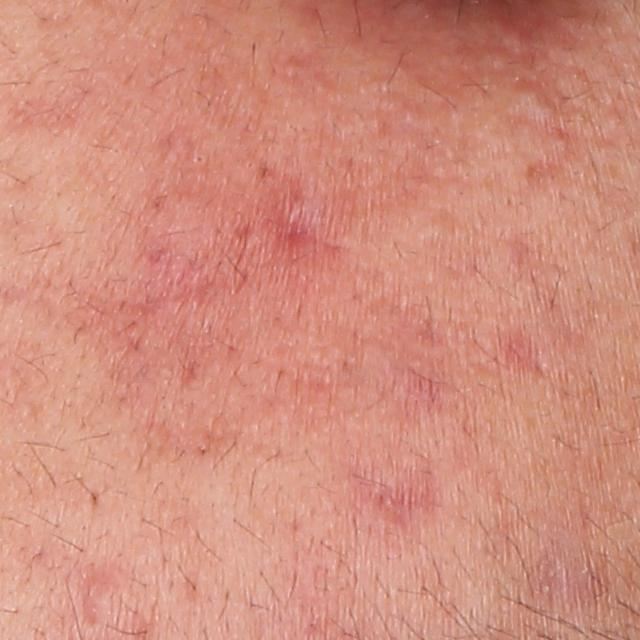atrophic_scar: (346, 460, 442, 527), (125, 263, 230, 318), (75, 557, 135, 633), (268, 190, 321, 257)
comedo: (192, 151, 211, 168)
